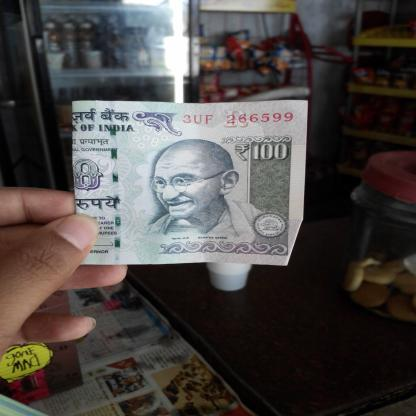Old100Front: (70, 98, 309, 266)
